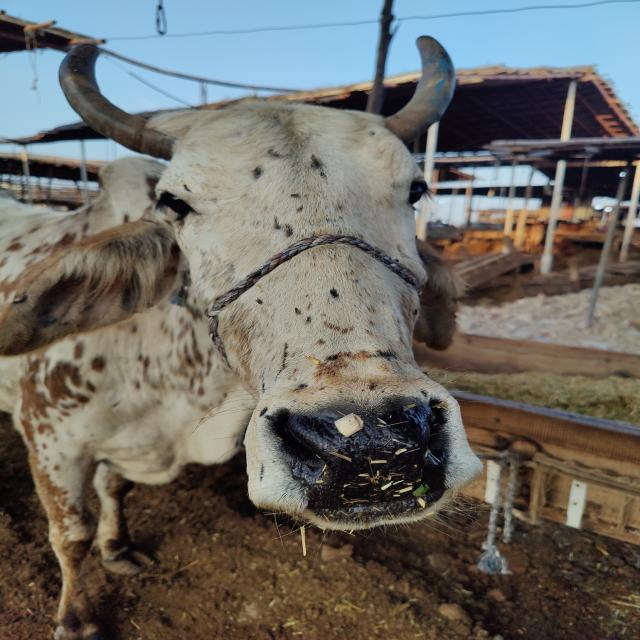muzzles: (255, 394, 476, 521)
